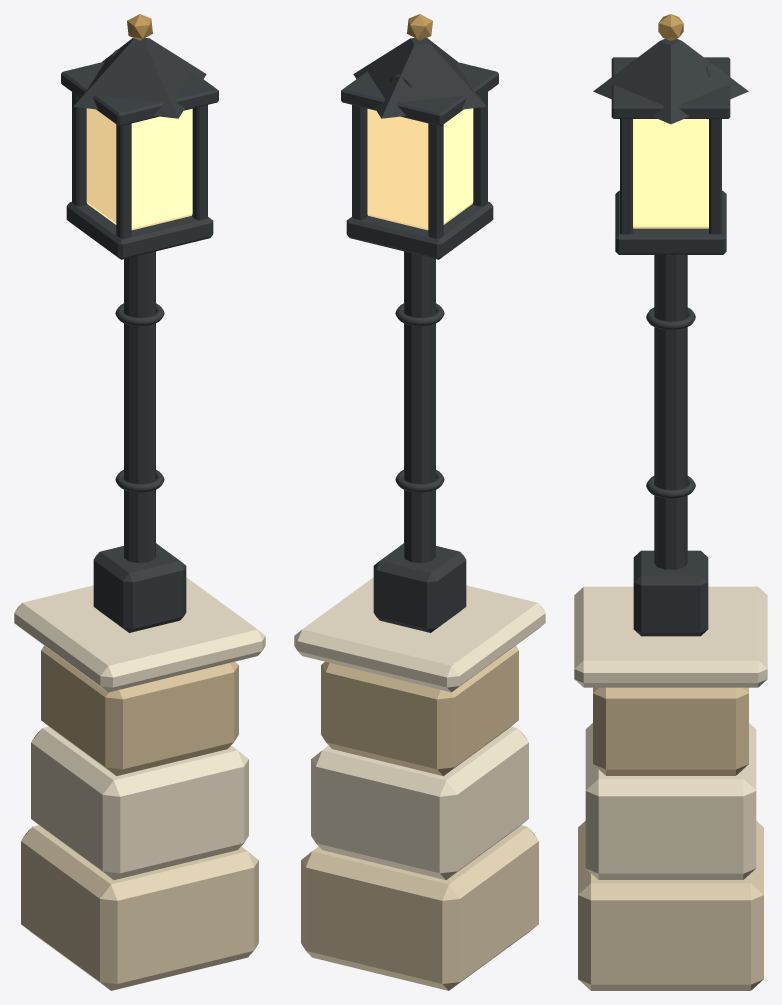
3 renders of one model, left to right at view 1: azimuth 30°, elevation 25°; view 2: azimuth 150°, elevation 25°; view 3: azimuth 270°, elevation 25°, orthographic.
Parts seen in each view (by area): view 1: lane_limestone_pale, lane_iron, lane_limestone, lane_limestone_warm, lane_lamp_glass; view 2: lane_limestone_pale, lane_iron, lane_limestone, lane_limestone_warm, lane_lamp_glass; view 3: lane_limestone_pale, lane_iron, lane_limestone, lane_limestone_warm, lane_lamp_glass, lane_brass.
Boxes of the visible parts, x1=… form: lane_limestone_pale: x1=14, y1=577, x2=265, y2=879; lane_iron: x1=61, y1=38, x2=218, y2=632; lane_limestone: x1=21, y1=825, x2=258, y2=990; lane_limestone_warm: x1=41, y1=645, x2=238, y2=776; lane_lamp_glass: x1=86, y1=108, x2=192, y2=230; lane_limestone_pale: x1=294, y1=577, x2=545, y2=879; lane_iron: x1=341, y1=38, x2=498, y2=632; lane_limestone: x1=301, y1=825, x2=538, y2=990; lane_limestone_warm: x1=321, y1=645, x2=518, y2=776; lane_lamp_glass: x1=367, y1=108, x2=473, y2=230; lane_limestone_pale: x1=574, y1=586, x2=767, y2=879; lane_iron: x1=593, y1=39, x2=748, y2=636; lane_limestone: x1=578, y1=821, x2=763, y2=990; lane_limestone_warm: x1=593, y1=687, x2=748, y2=775; lane_lamp_glass: x1=633, y1=119, x2=708, y2=228; lane_brass: x1=658, y1=14, x2=683, y2=40.
Size of the model in its own units: 0.52 by 2.8 by 0.52.
